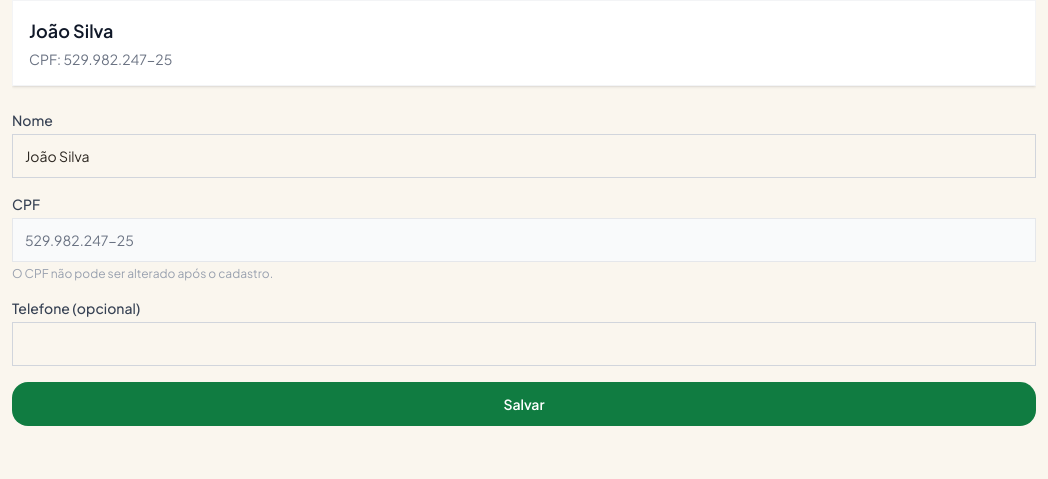
Test case: PersonProfile › when person profile exists › should display success message after save
This screenshot has width=1048, height=479.
Replace the text in the field showing "João Silva" with "João da Silva" at coordinates (524, 156), box [12,134,1036,178]
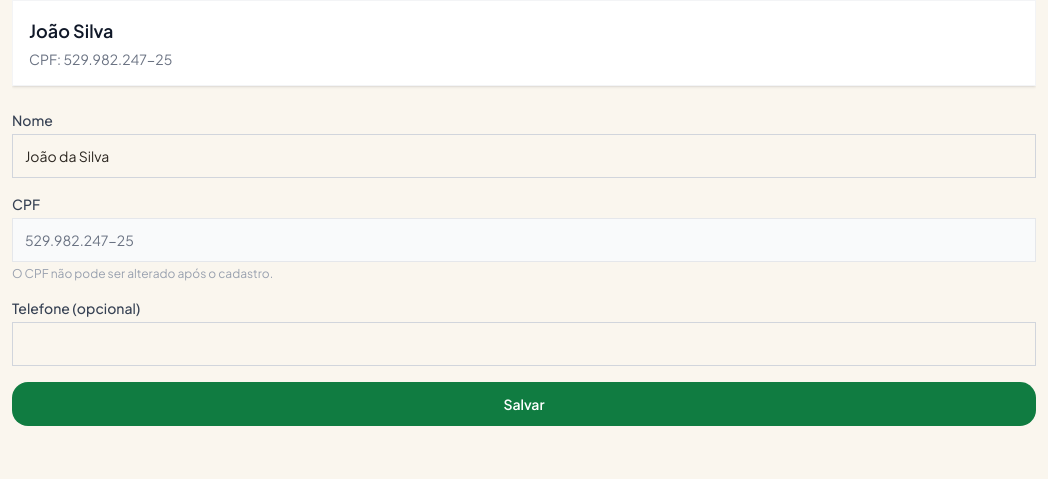
Click the button "Salvar" at coordinates (524, 404), box [12,382,1036,426]
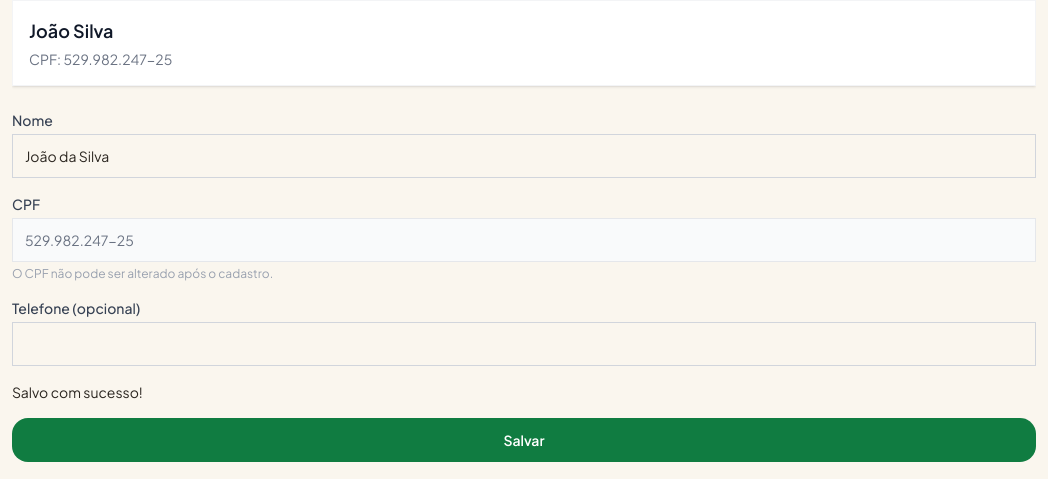
Expected: the text "Salvo com sucesso!" is shown, [12,383,143,401]
